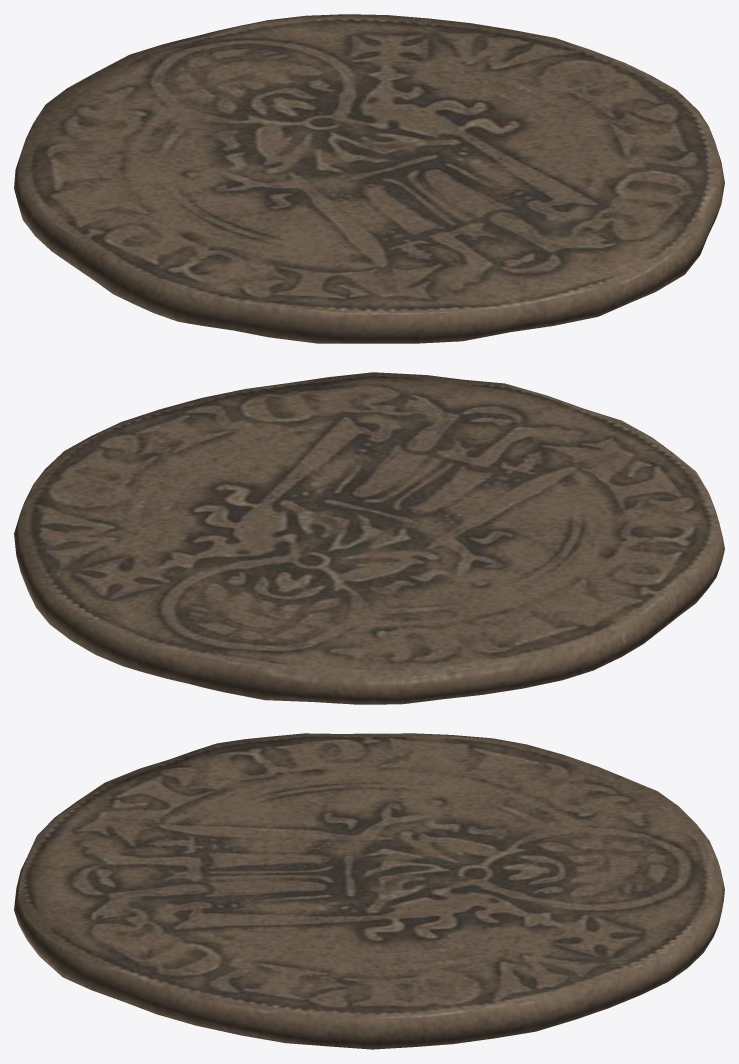
Rendered from coin.glb.
3 renders of one model, top to bottom at view 1: azimuth 30°, elevation 25°; view 2: azimuth 150°, elevation 25°; view 3: azimuth 270°, elevation 25°, orthographic. The views are drawn at different scales.
Visible parts, largest first — view 1: Old Coin; view 2: Old Coin; view 3: Old Coin.
Boxes of the visible parts, left/top/right/bottom form: Old Coin: left=14, top=14, right=724, bottom=343; Old Coin: left=14, top=372, right=724, bottom=704; Old Coin: left=14, top=733, right=724, bottom=1049.
Size of the model in its own units: 0.0558 by 0.00375 by 0.0577.
1 material, 1 textured.
